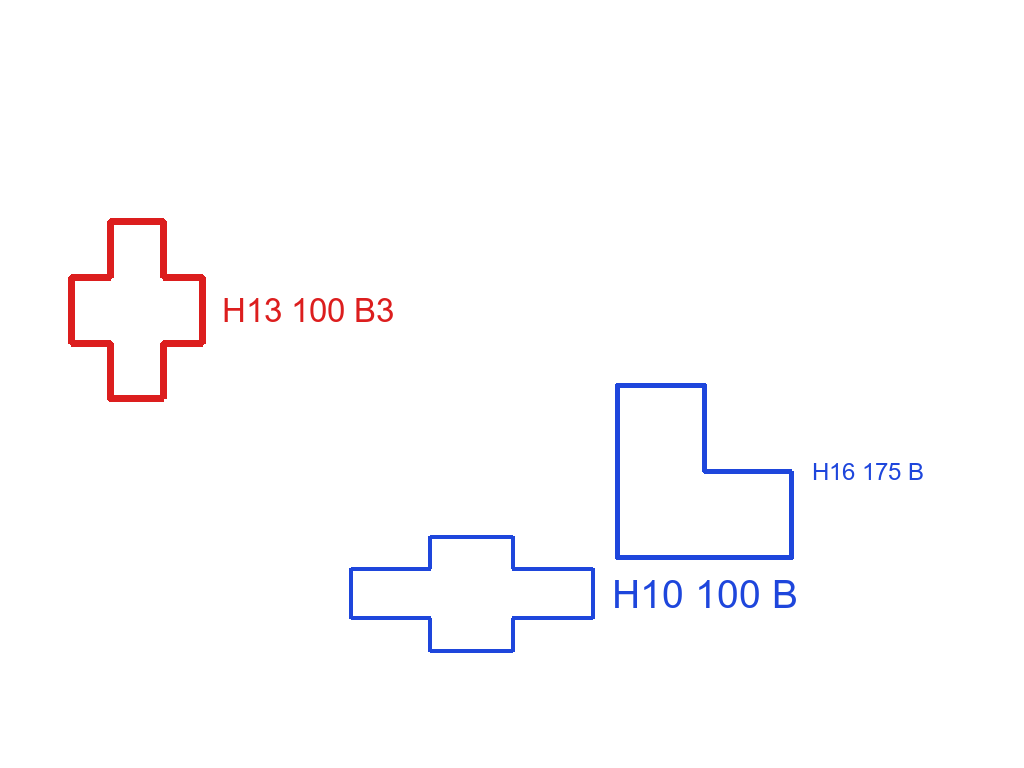shape: (613, 381, 796, 562), (347, 532, 596, 655), (66, 216, 208, 404)
text: (610, 578, 800, 610), (220, 296, 396, 324), (810, 461, 926, 482)
